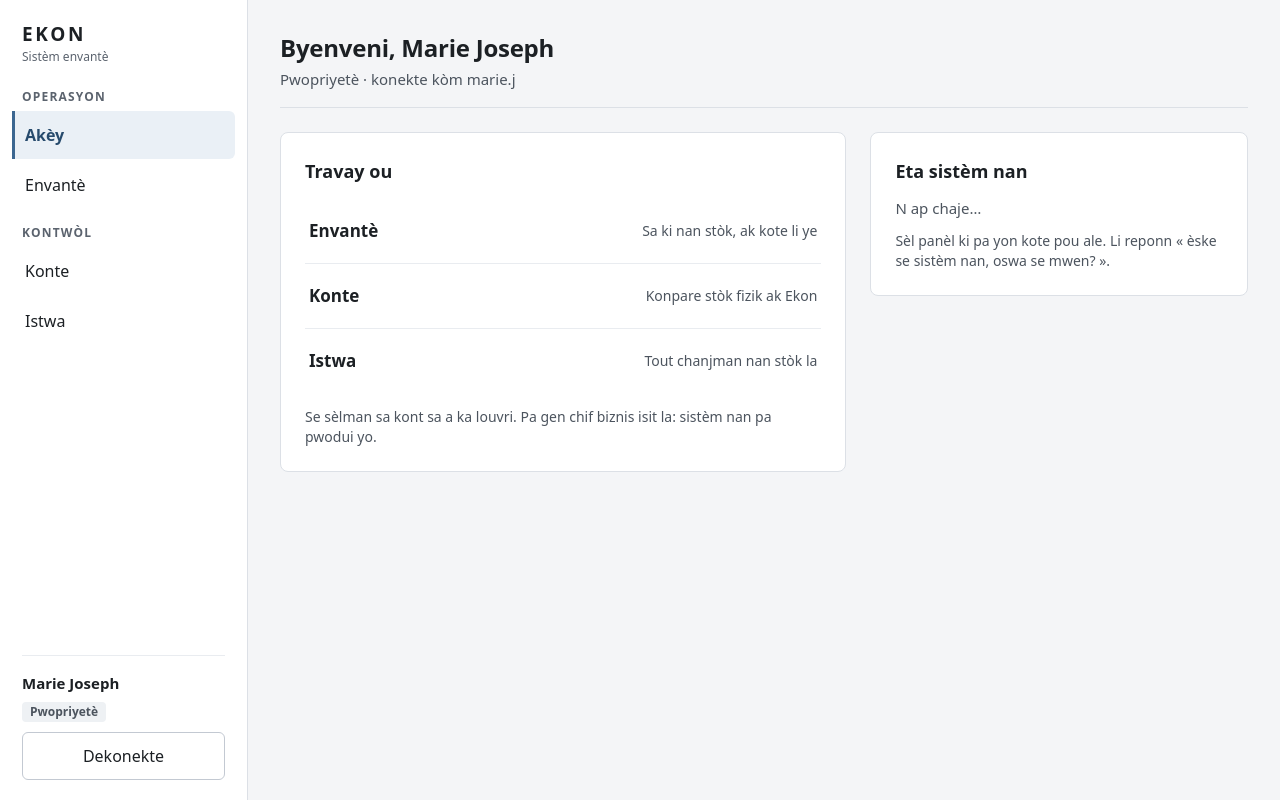
a stock read the server refuses › shows no empty-shop message beside the failure
The width and height of the screenshot is (1280, 800).
Click the button "Envantè".
click(124, 184)  # box [12,160,235,208]
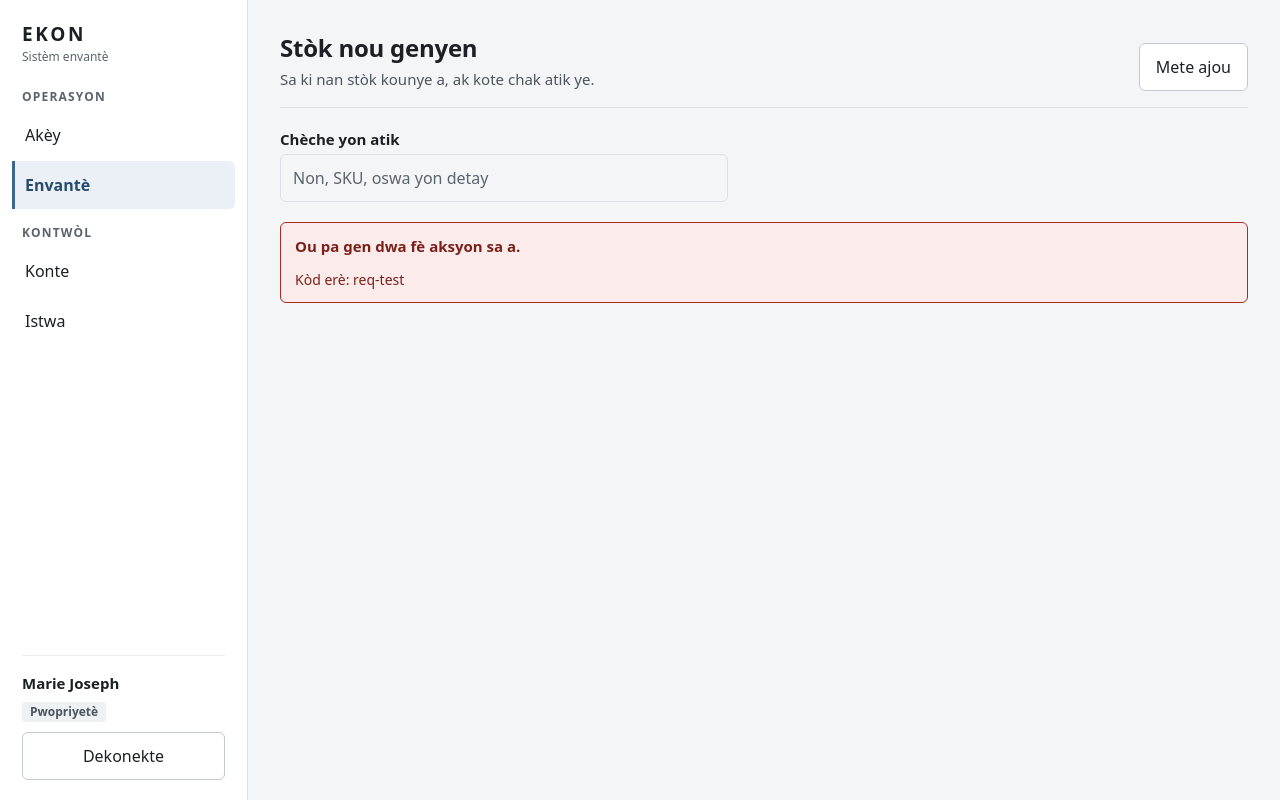
Now the heading "Stòk nou genyen" is shown, box [280,31,477,64]
Now the message "Ou pa gen dwa fè aksyon sa a. Kòd erè: req-test" is shown, box [280,222,1248,302]
